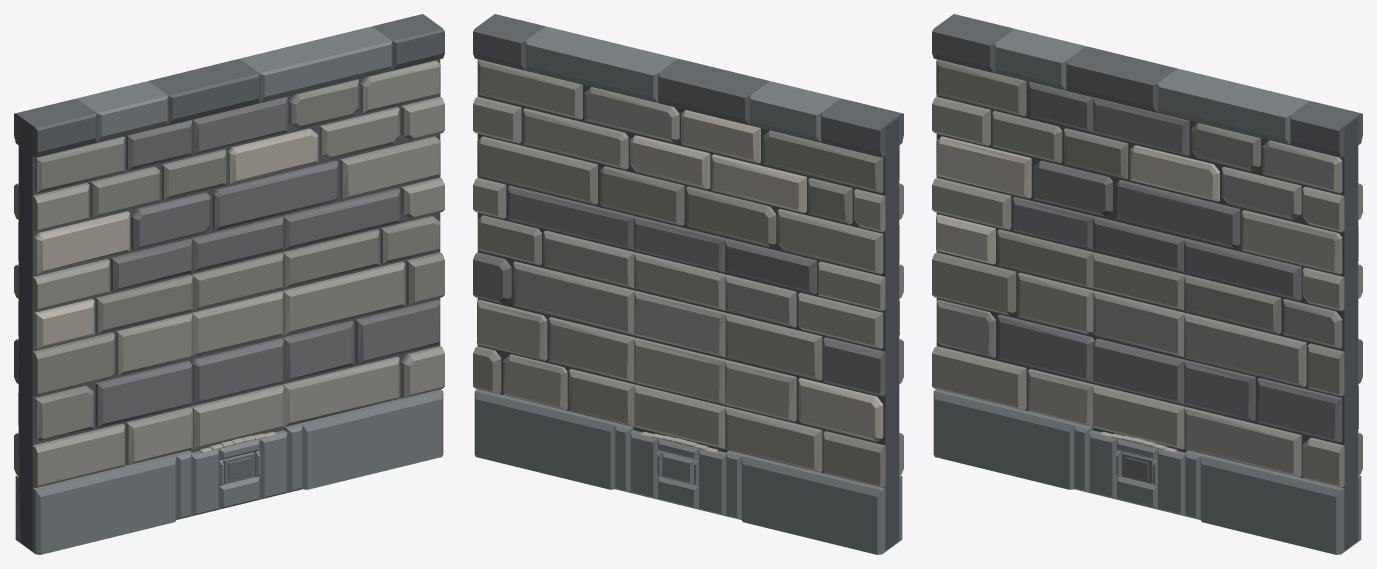
The model's file is SM_LPD_Struct_WallSecretPivotShut_01.fbx.
3 views of the same model, side by side, from view 1: azimuth 30°, elevation 25°; view 2: azimuth 150°, elevation 25°; view 3: azimuth 330°, elevation 25° (orthographic).
Visible parts, largest first — view 1: SM_LPD_Struct_WallSecretPivotShut_01; view 2: SM_LPD_Struct_WallSecretPivotShut_01; view 3: SM_LPD_Struct_WallSecretPivotShut_01.
Boxes of the visible parts, x1=… form: SM_LPD_Struct_WallSecretPivotShut_01: x1=14, y1=14, x2=444, y2=554; SM_LPD_Struct_WallSecretPivotShut_01: x1=473, y1=14, x2=903, y2=554; SM_LPD_Struct_WallSecretPivotShut_01: x1=932, y1=14, x2=1362, y2=554.
Bounding box in the file's own units: 4 × 4 × 0.4.
